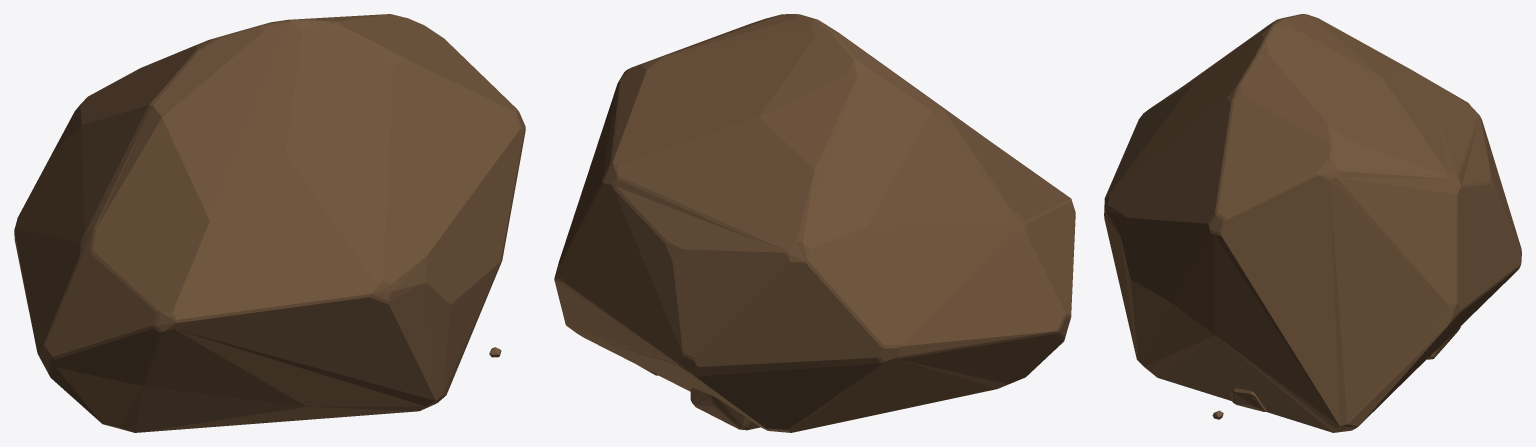
The model's file is rocks.glb.
3 renders of one model, left to right at view 1: azimuth 30°, elevation 25°; view 2: azimuth 150°, elevation 25°; view 3: azimuth 270°, elevation 25°, orthographic. The views are drawn at different scales.
Parts seen in each view (by area): view 1: Rock01; view 2: Rock01, Rock04; view 3: Rock01, Rock15.
Part boxes in pixels (<box>): Rock01: <box>14,14,525,432</box>; Rock01: <box>554,14,1075,432</box>; Rock04: <box>690,387,760,430</box>; Rock01: <box>1104,14,1521,432</box>; Rock15: <box>1212,388,1266,419</box>.
Bounding box in the file's own units: 4.91 × 3.49 × 4.14.
